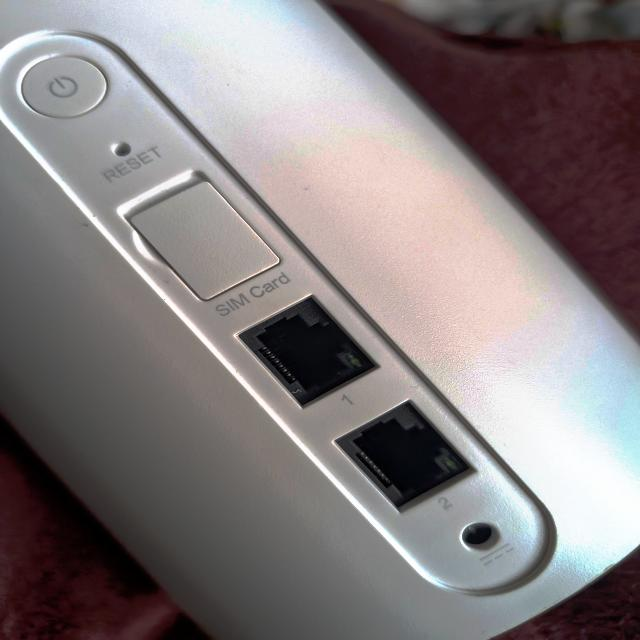lan: (328, 396, 484, 520), (228, 292, 390, 408)
modem: (0, 0, 640, 640)
onbutton: (16, 52, 116, 121)
pow: (413, 489, 555, 591)
sim: (119, 166, 288, 308)
